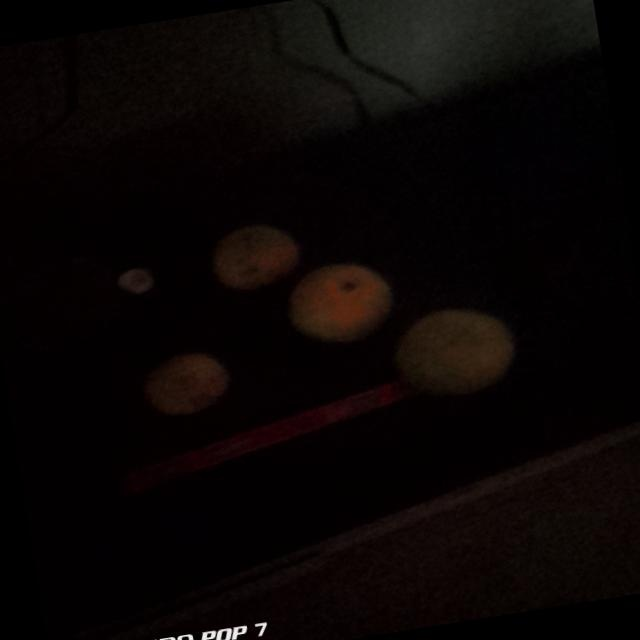agrume: (383, 289, 534, 399), (284, 253, 396, 355), (206, 212, 296, 304), (142, 346, 224, 419)
